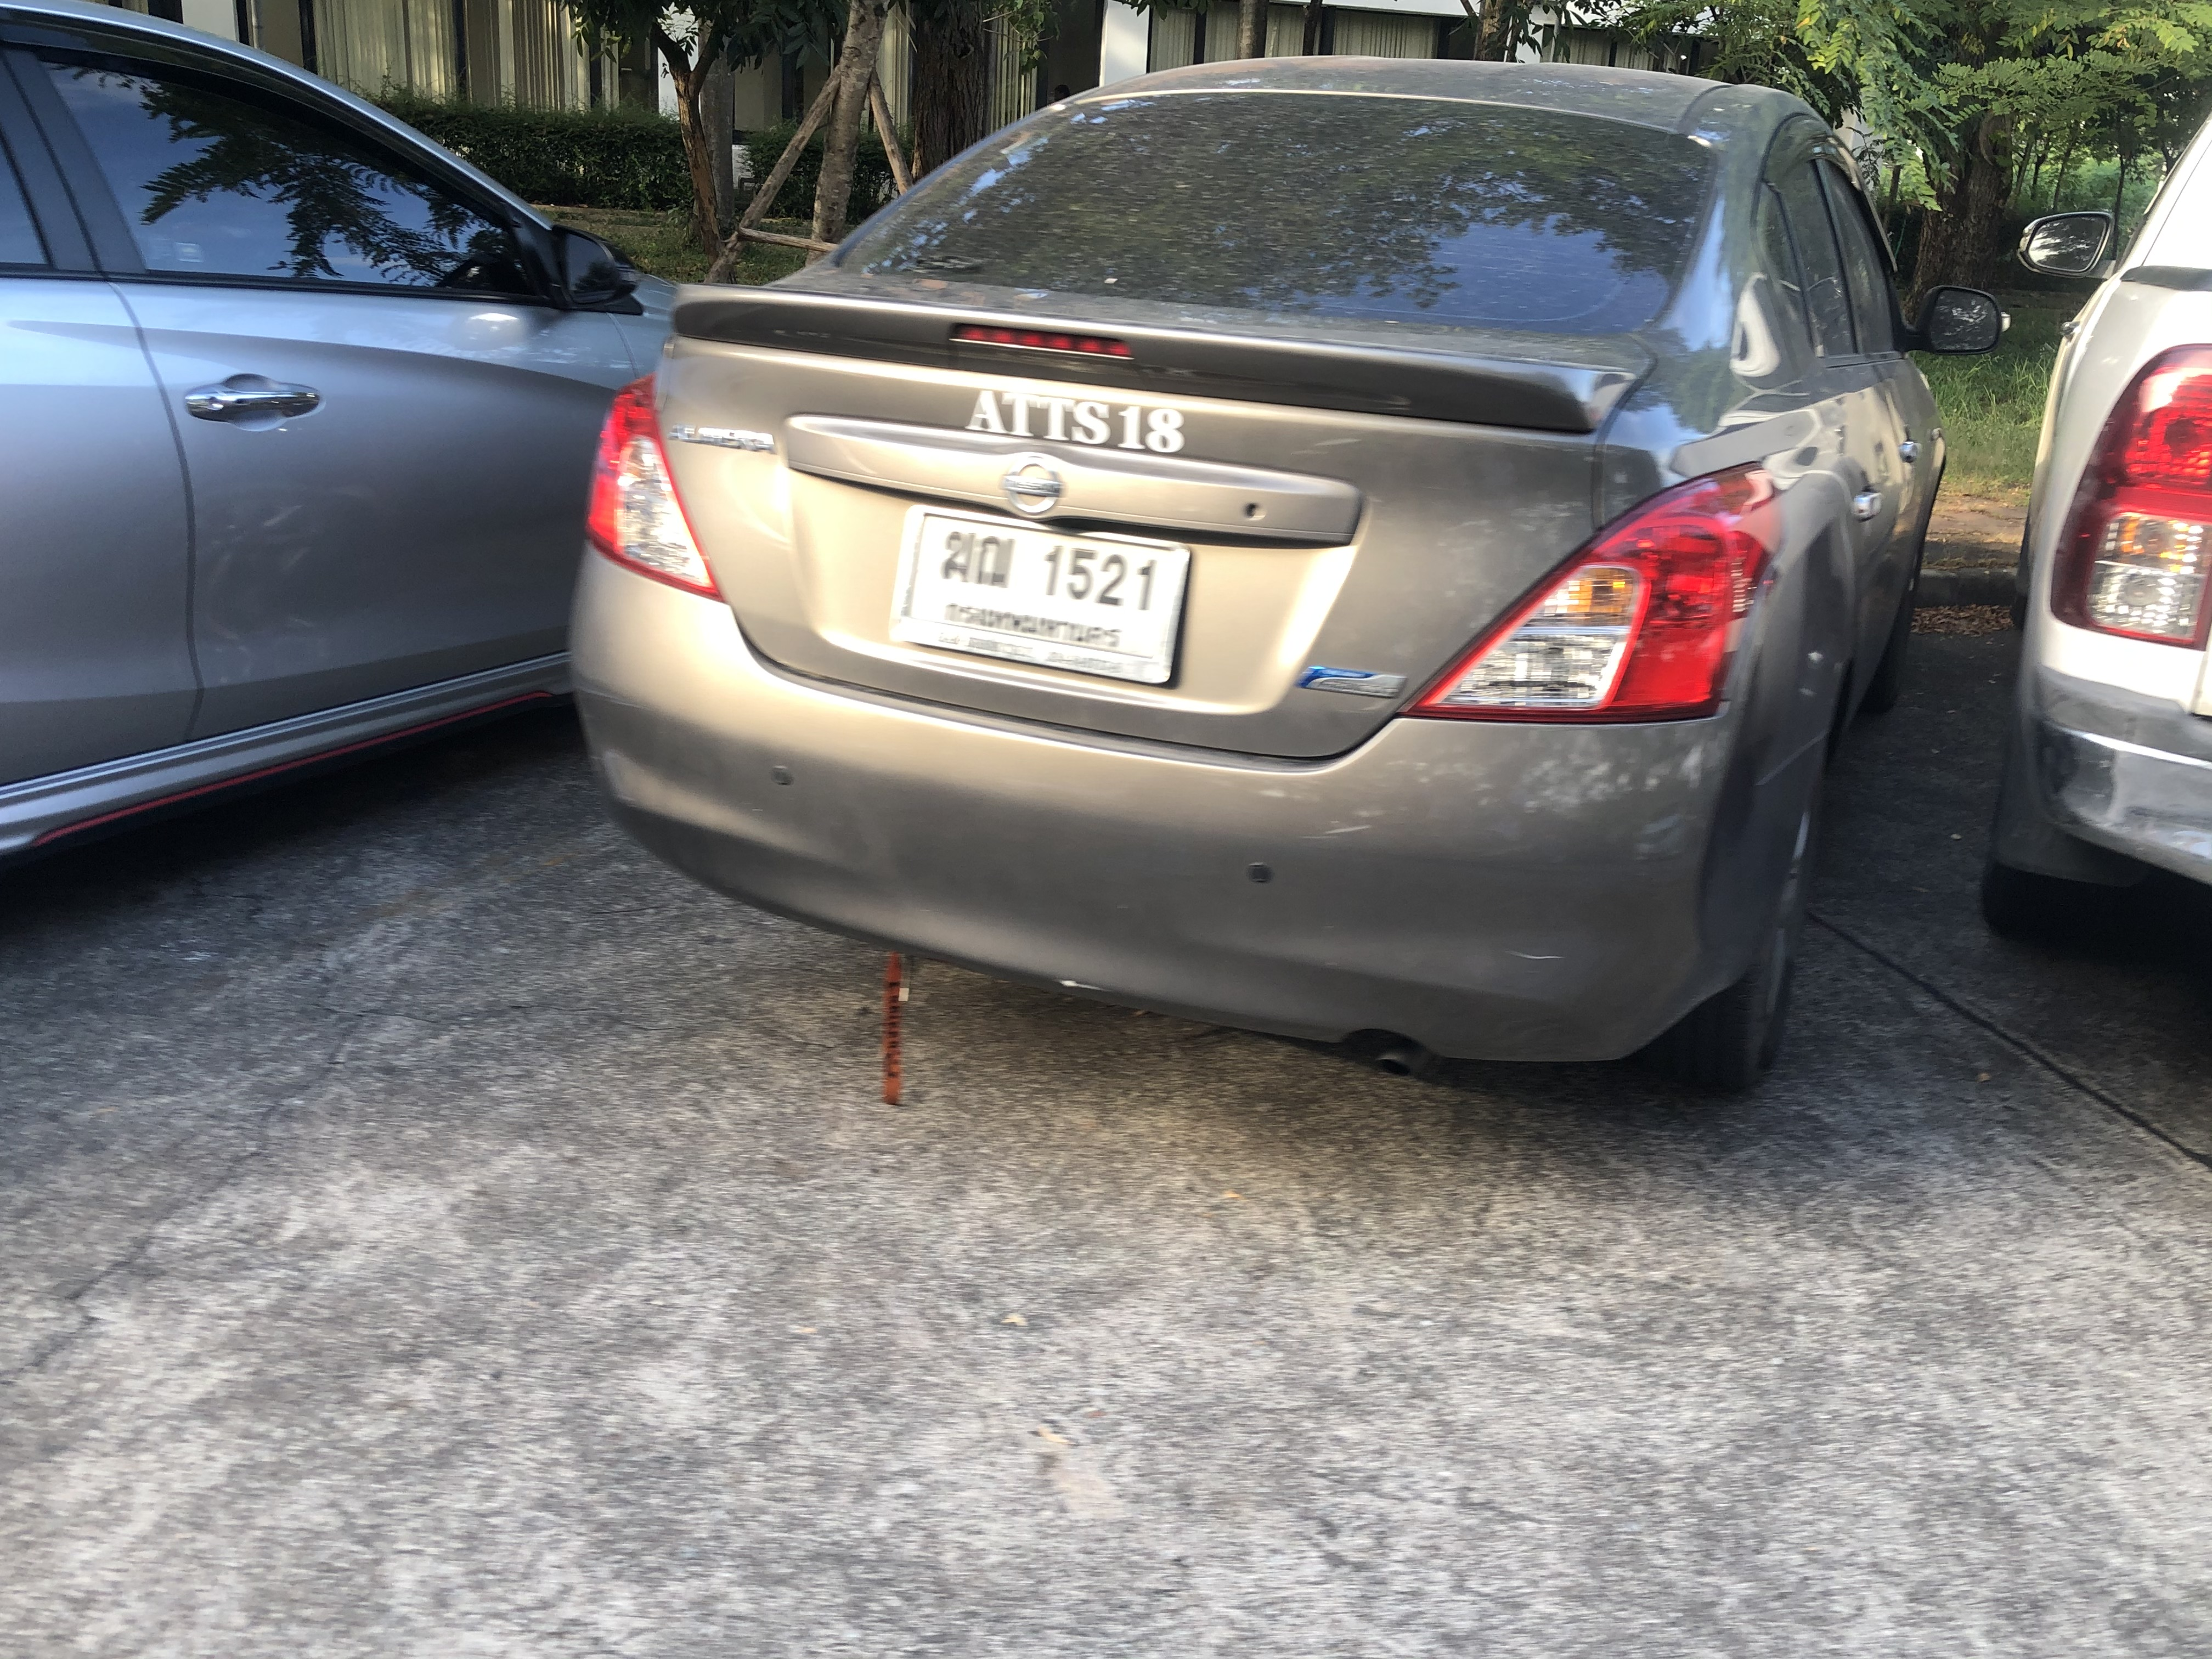in: (902, 507, 1172, 662)
out: (883, 500, 1200, 694)
